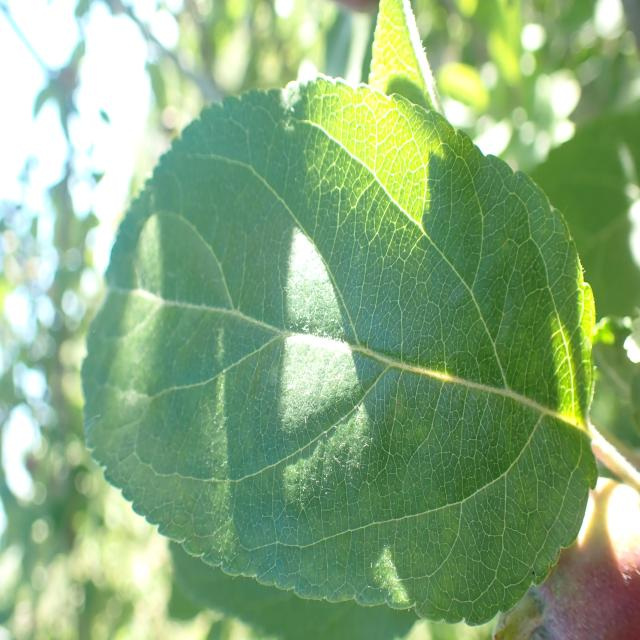healthy: (79, 0, 595, 625)
